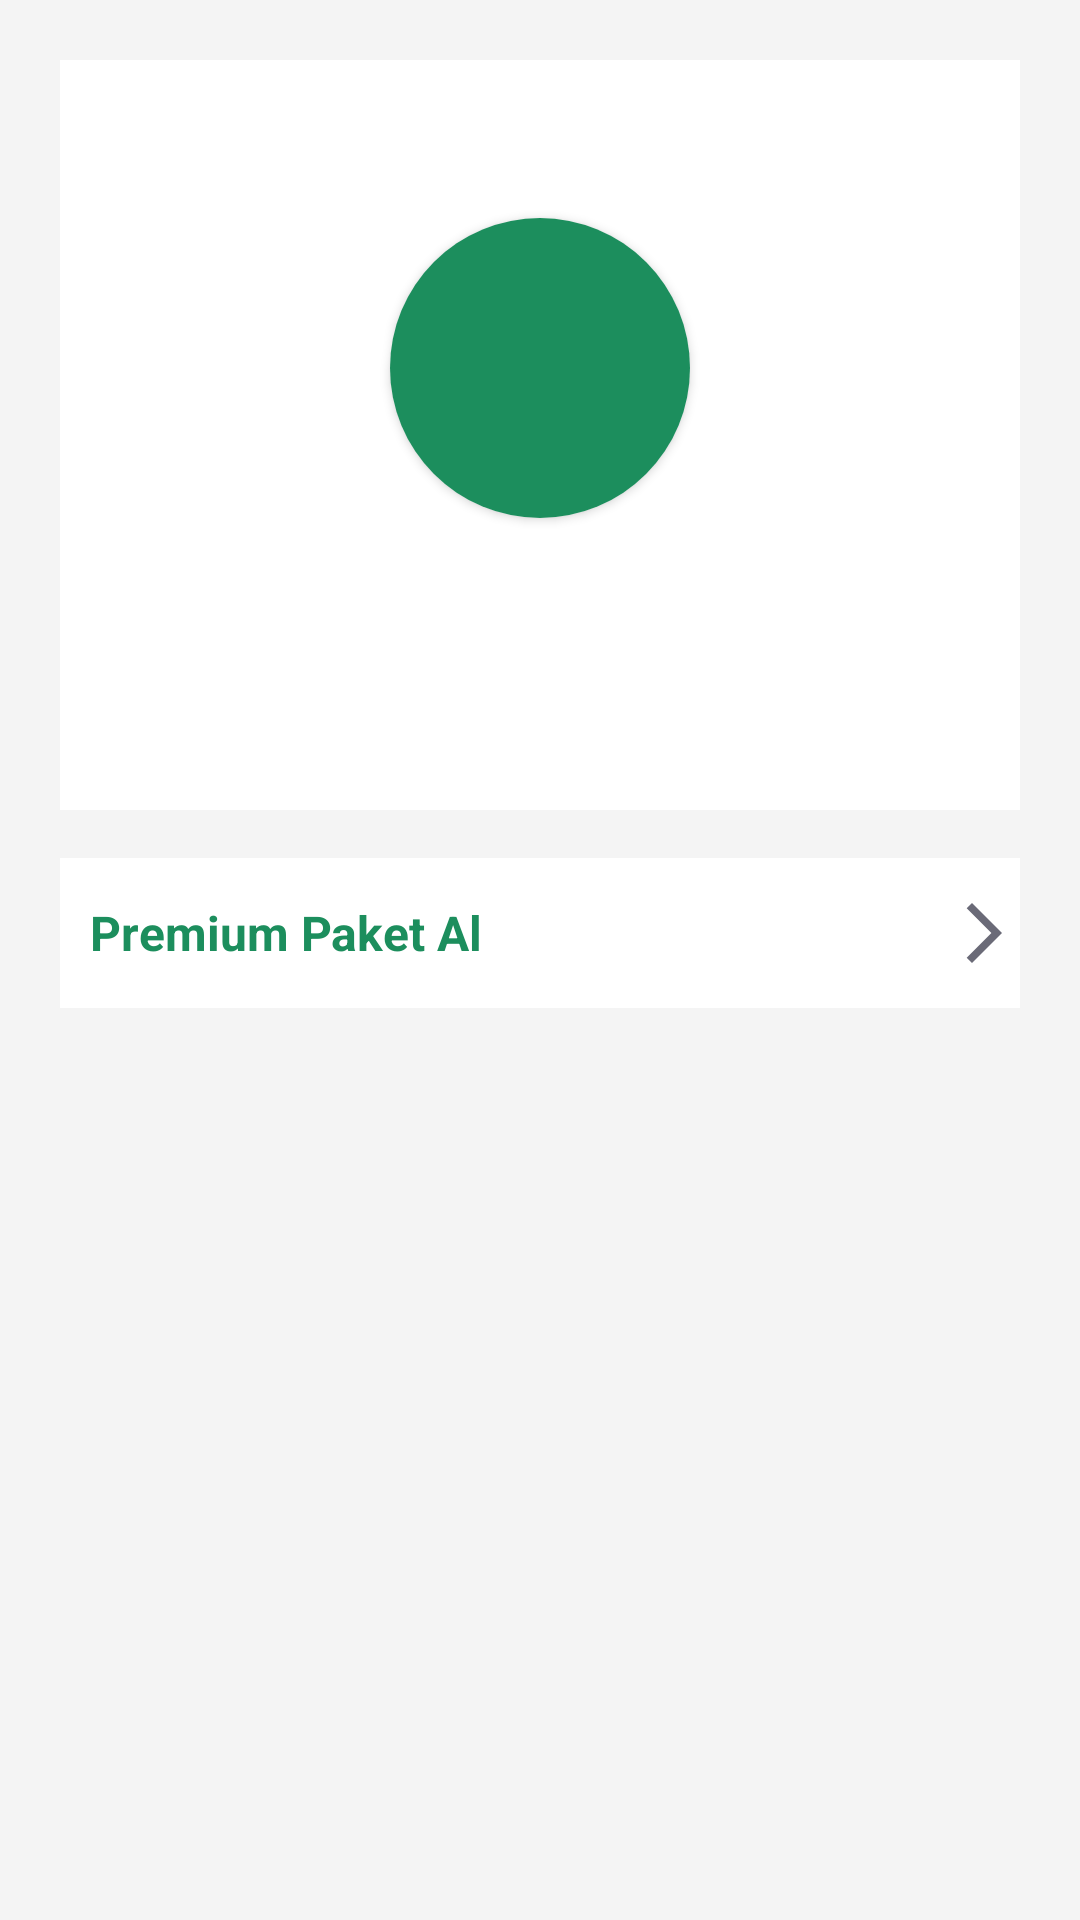

Icons on this 1080w x 1920h Android screen, each with the point to tap as (x=x, y=y):
arrow: (x=984, y=933)
